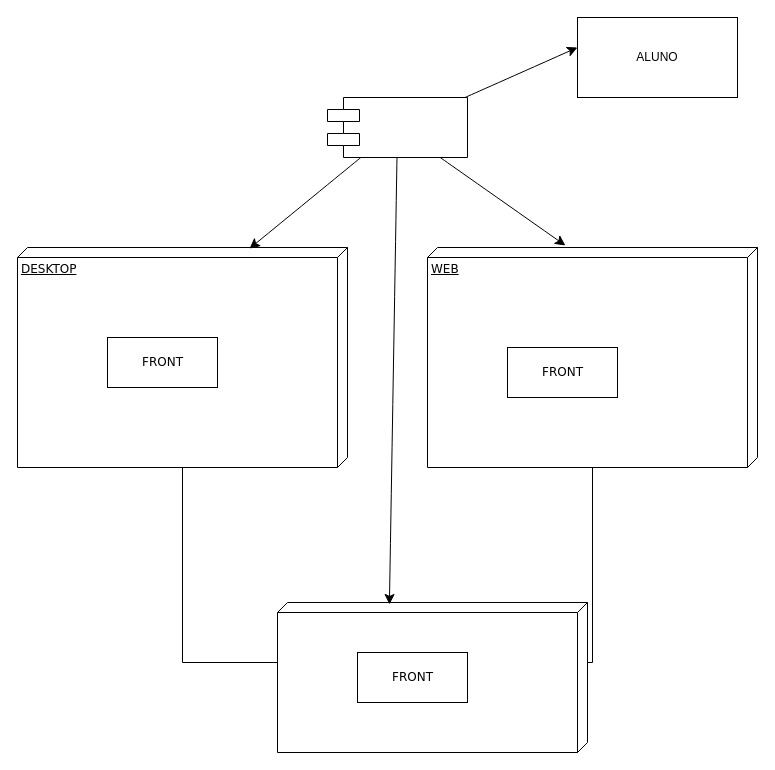
The diagram is 775 pixels wide and 770 high, and some of its shapes have lost their labels. The shapes that lost their labels are listed below. From the top down, each one's box as (x1, y1, x2, y2) in pixels, then its label:
(326, 96, 468, 158): CONTROLLER
(276, 602, 588, 752): MOBILE
